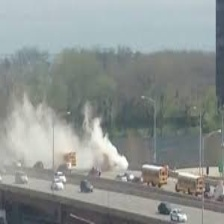smoke: (9, 102, 129, 177)
